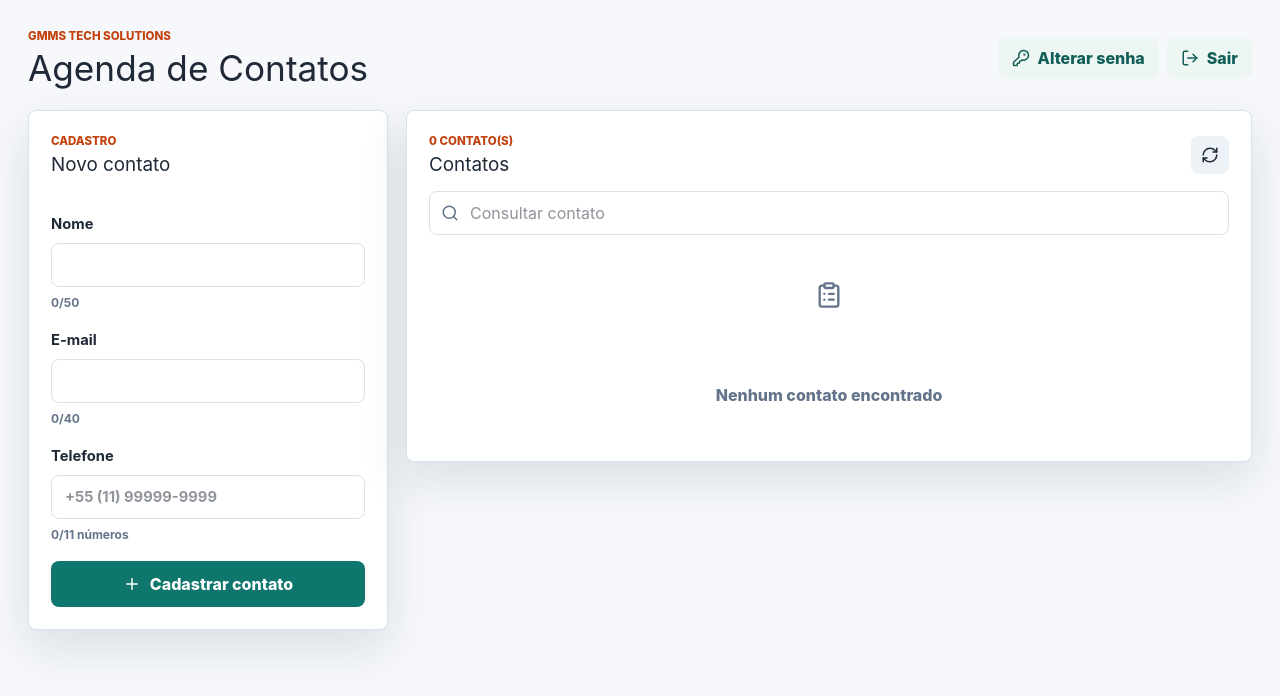
Test case: ContactsView › altera a senha apenas do usuário logado pelo painel de conta
Click the button "Alterar senha".
click(1078, 58)  # box [998,37,1159,79]
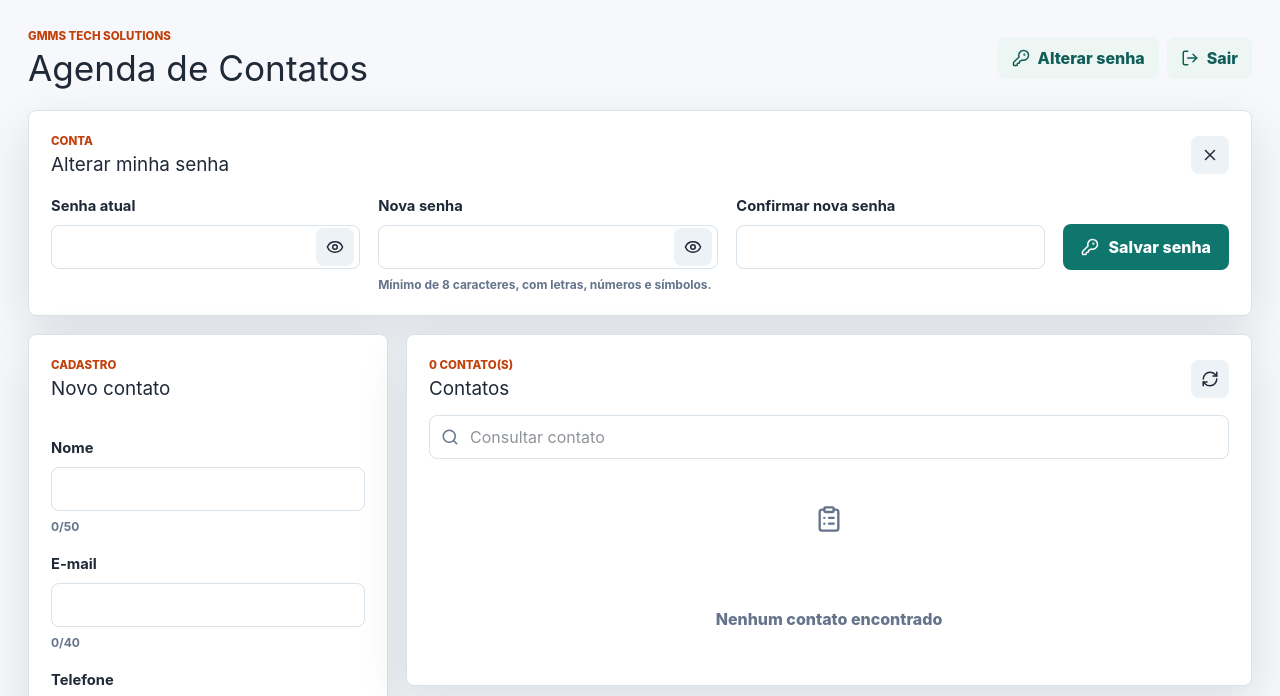
Type "Admin@123456" into the password field labelled "Senha atual".
click(206, 247); type("Admin@123456")  # box [51,225,360,269]
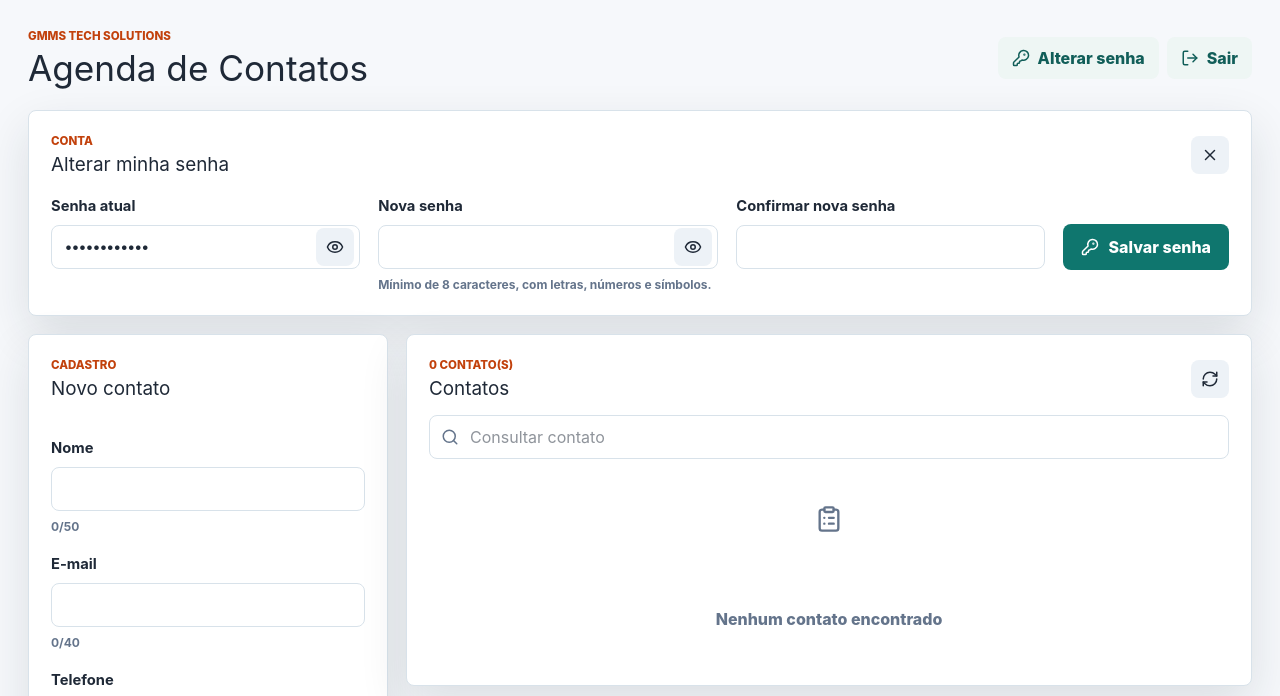
Type "User@12345678" into the 2nd password field.
click(548, 247); type("User@12345678")  # box [378,225,718,269]
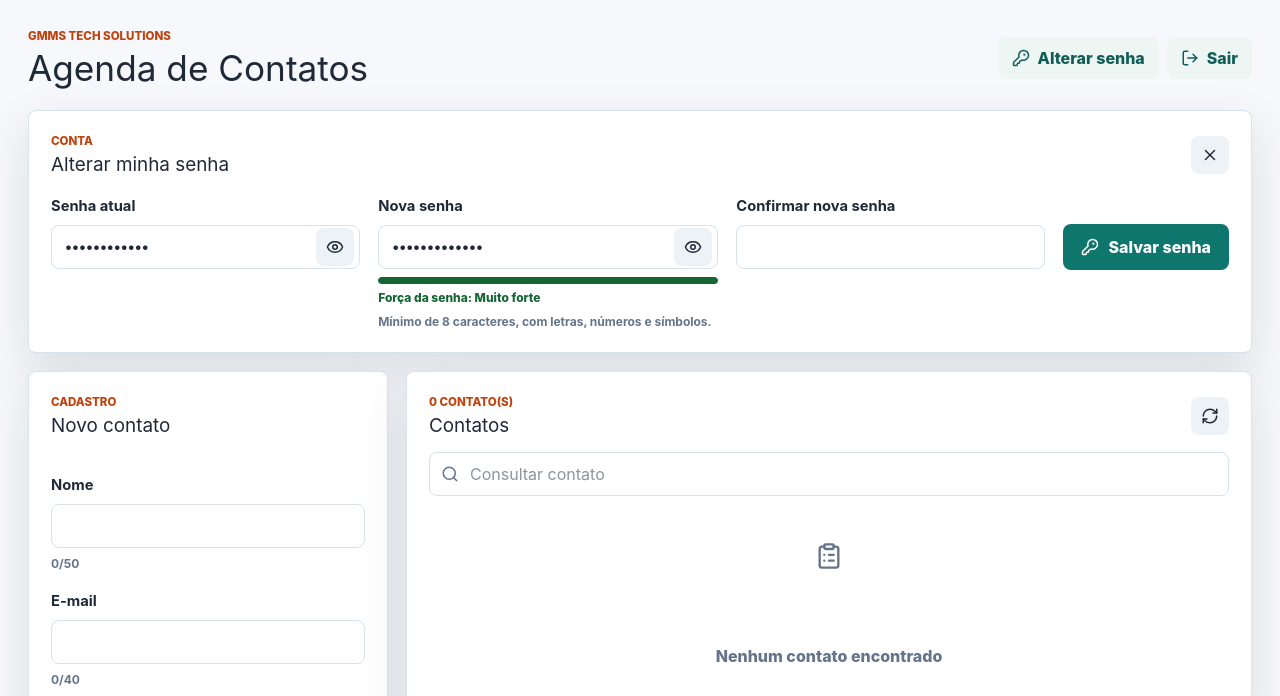
Type "User@12345678" into the password field labelled "Confirmar nova senha".
click(891, 247); type("User@12345678")  # box [736,225,1046,269]
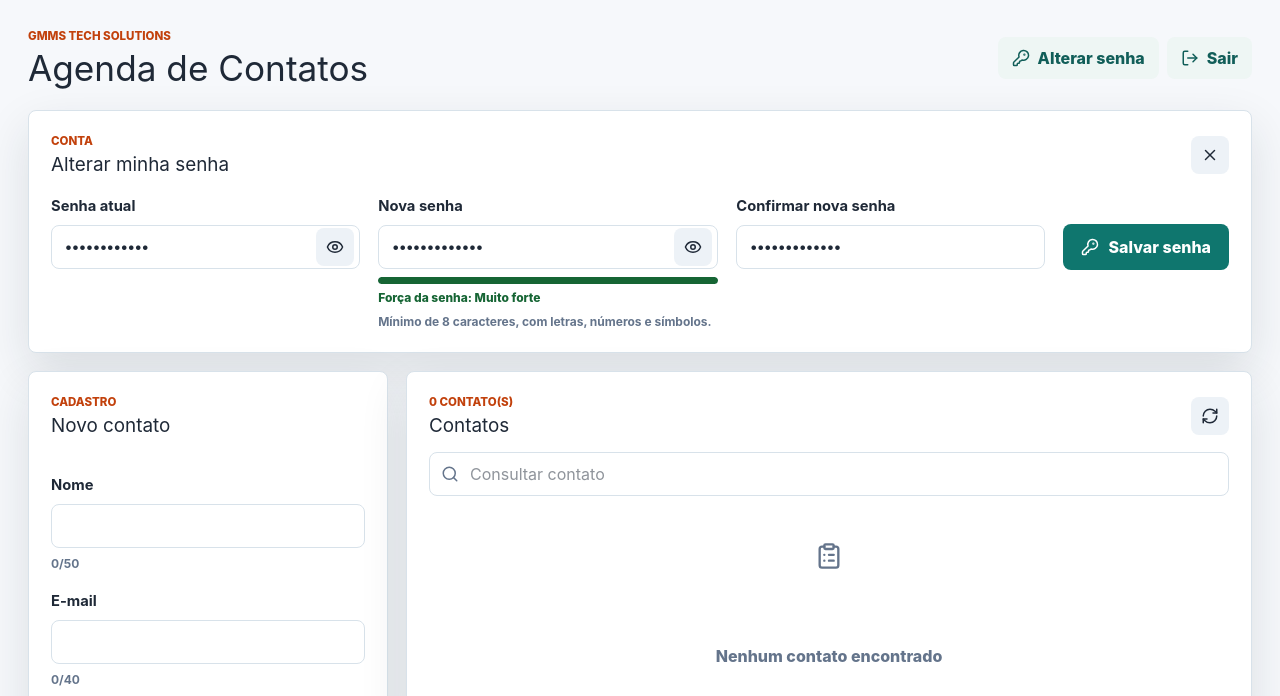
Check: the form that starts with "Conta" shows "Força da senha: Muito forte", box [378,290,541,305]
Submit the form that starts with "Conta", box [28,110,1252,353]
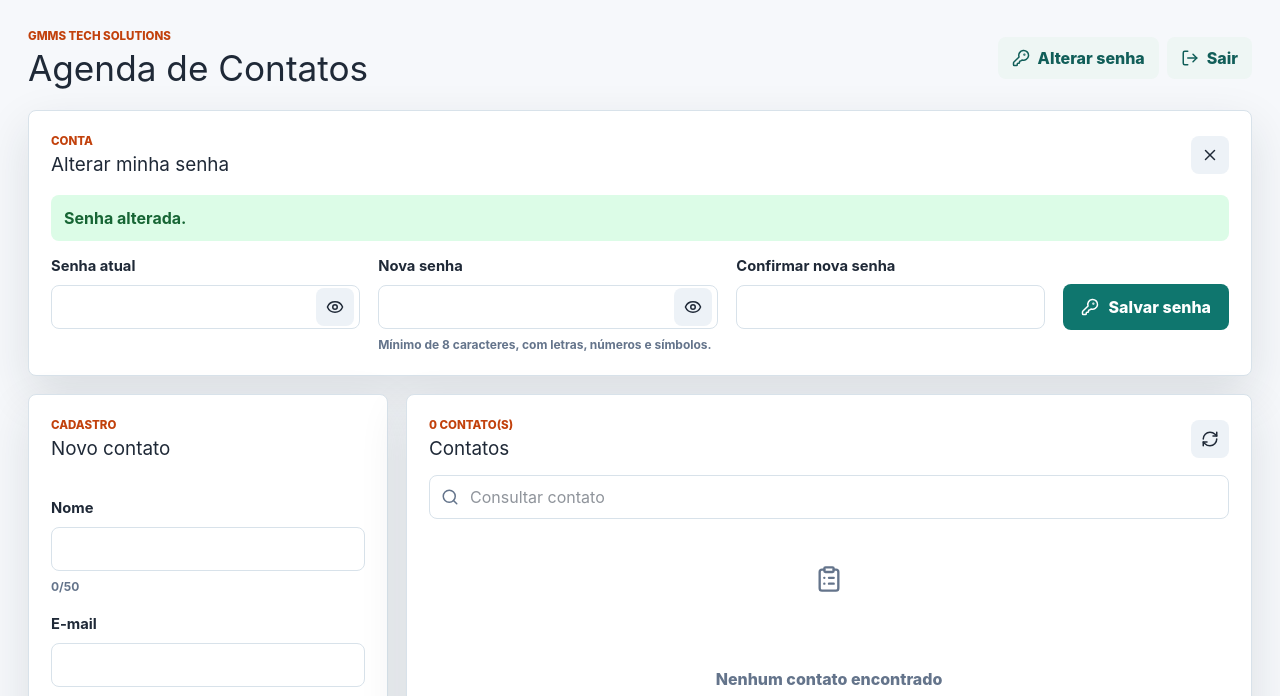
Check: the text "Senha alterada." is shown, box [51,195,1229,241]
